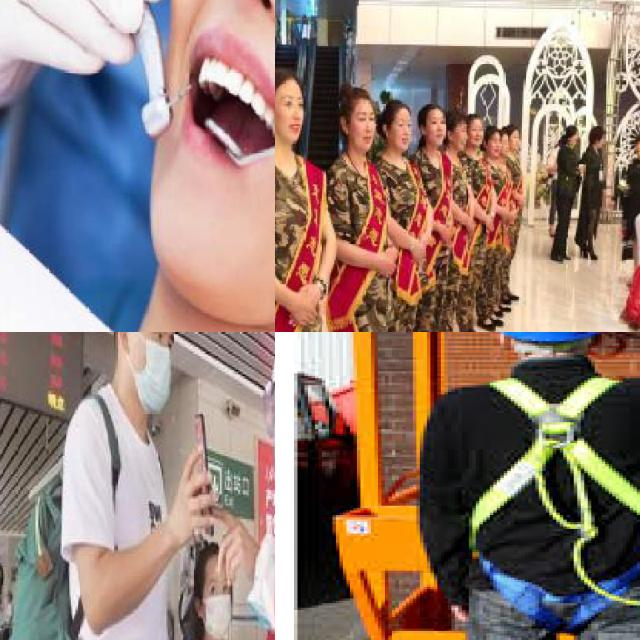Harness: (459, 358, 640, 633)
face_mask: (121, 332, 187, 419)
face_nomask: (159, 0, 275, 325), (275, 89, 309, 136), (345, 109, 376, 152), (385, 114, 417, 155), (425, 115, 445, 148), (469, 121, 486, 148), (451, 128, 471, 150)
glasses: (250, 379, 275, 444)
hand_glove: (0, 0, 171, 78)
hand_noglove: (174, 442, 215, 538), (211, 500, 252, 594), (290, 289, 317, 328), (376, 252, 399, 280), (412, 240, 427, 264), (483, 216, 496, 236), (442, 228, 454, 246), (464, 218, 474, 236), (502, 209, 514, 223), (519, 195, 528, 211), (608, 198, 616, 211), (551, 164, 559, 173), (579, 164, 586, 173), (600, 188, 606, 198)
head_nohelmet: (337, 86, 373, 108), (380, 95, 410, 118), (275, 67, 301, 93), (420, 102, 442, 118), (448, 108, 468, 123), (468, 115, 484, 123)
person: (20, 332, 215, 640), (355, 62, 426, 332), (325, 70, 386, 332), (275, 58, 318, 332), (416, 100, 462, 332)
